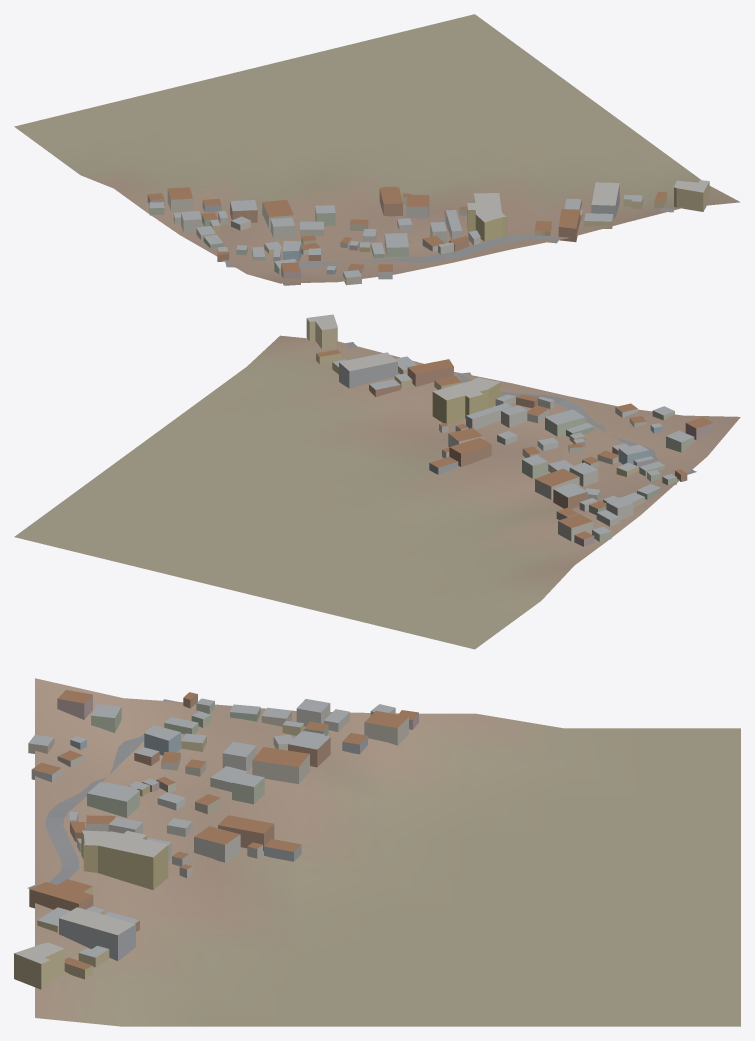
The picture shows the model from 3 angles, top to bottom: view 1: azimuth 30°, elevation 25°; view 2: azimuth 150°, elevation 25°; view 3: azimuth 270°, elevation 25°; orthographic projection. The views are drawn at different scales.
Parts seen in each view (by area): view 1: Lo; view 2: Lo; view 3: Lo.
Boxes of the visible parts, box(x1,y1,x2,y2) form: Lo: box(14, 14, 740, 285); Lo: box(14, 314, 740, 649); Lo: box(14, 678, 740, 1026).
Size of the model in its own units: 259 by 20.09 by 264.
